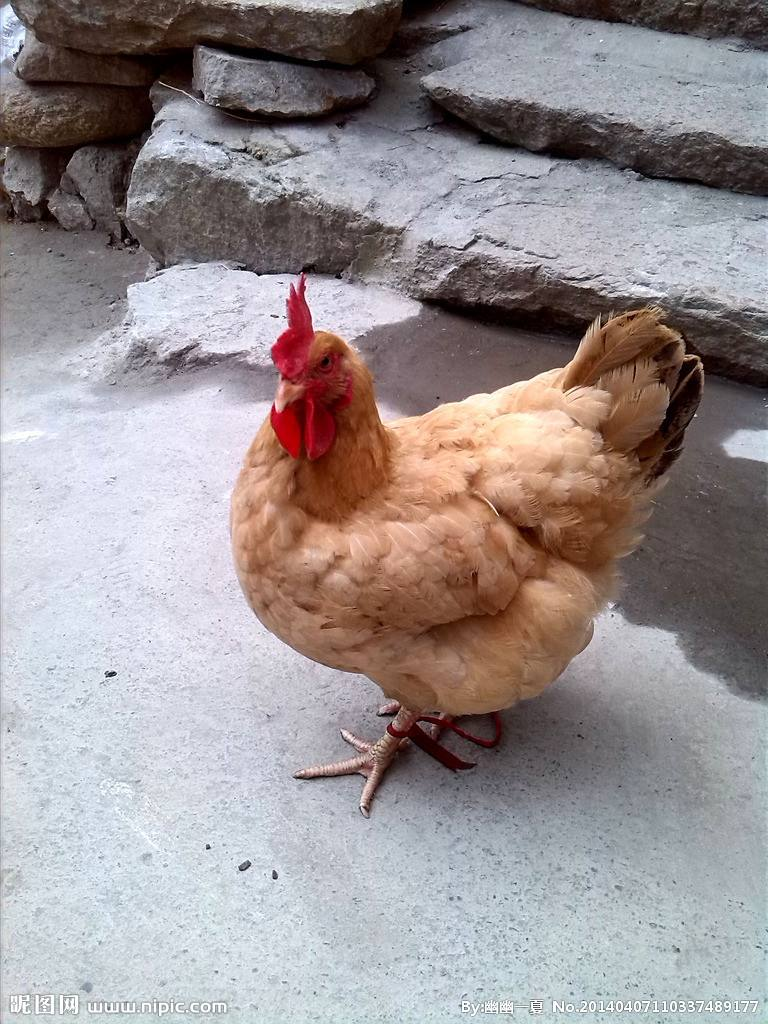chicken: (235, 260, 718, 816)
